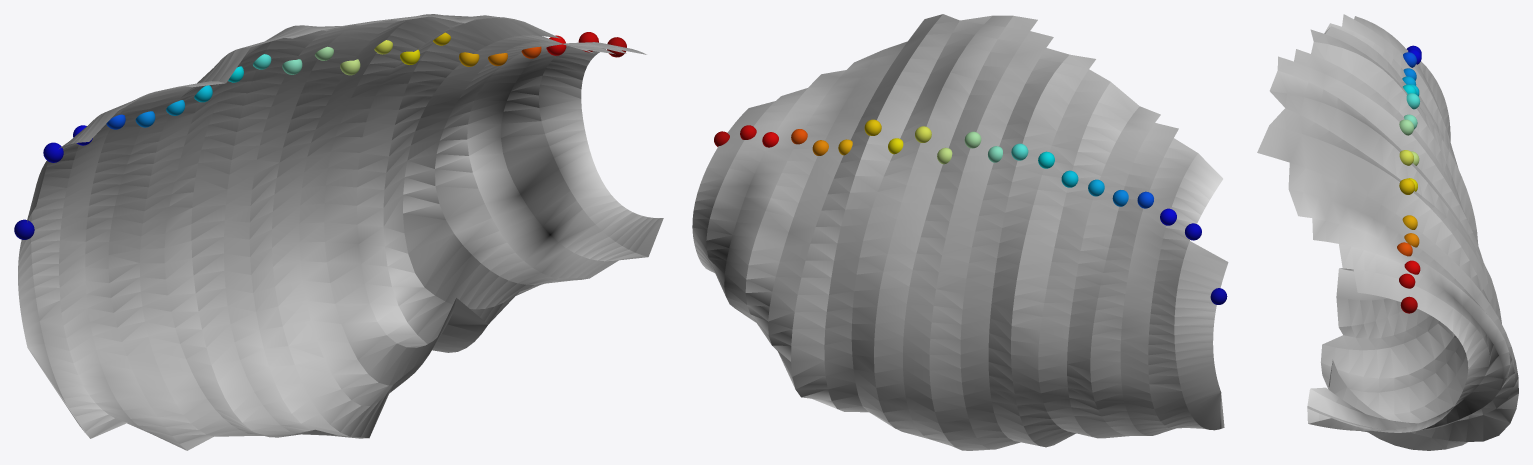
File: M1_Monodelphis_P19_ucd_17_280_id2_17_280_id2.gltf
3 views of the same model, side by side, from view 1: azimuth 30°, elevation 25°; view 2: azimuth 150°, elevation 25°; view 3: azimuth 270°, elevation 25° (orthographic). The views are drawn at different scales.
Size of the model in its own units: 2.06 by 1.48 by 0.9283.
